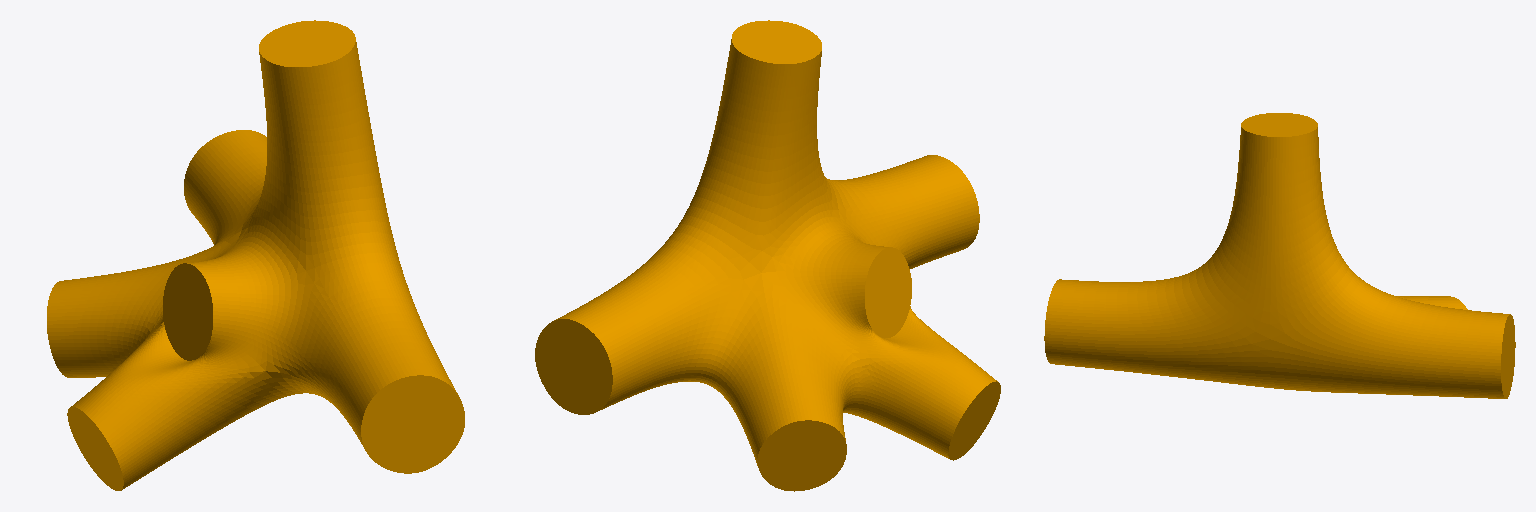
robot.urdf — object:
<robot name="object">
  <link name="object">
    <visual>
      <origin xyz="0 0 0"/>
      <geometry>
        <mesh filename="visual.obj" scale="1 1 1"/>
      </geometry>
    </visual>
    <collision>
      <origin xyz="0 0 0"/>
      <geometry>
        <mesh filename="visual.obj" scale="1 1 1"/>
      </geometry>
    </collision>
    <inertial>
      <mass value="0.05"/>
      <inertia ixx="9.921759350012368e-05" iyy="5.948660170237255e-05" izz="9.576769210875729e-05" ixy="-5.0360107623105515e-06" ixz="-1.2807582808410555e-05" iyz="5.6785226116338245e-06"/>
    </inertial>
  </link>
</robot>

--- Render facts (derived) ---
The picture shows the robot from 3 angles, left to right: view 1: azimuth 30°, elevation 25°; view 2: azimuth 150°, elevation 25°; view 3: azimuth 270°, elevation 25°; orthographic projection.
Robot: object — 1 links, 0 joints (none); root link object; default pose: every joint at zero.
Links seen in each view (by area): view 1: object; view 2: object; view 3: object.
Link boxes in pixels (x1=…): object: x1=47, y1=20, x2=464, y2=490; object: x1=535, y1=20, x2=1000, y2=491; object: x1=1044, y1=113, x2=1515, y2=398.
Size in the robot's own frame: 0.1234 by 0.1857 by 0.1372 metres.
1 mesh visuals loaded from 1 distinct referenced files (1 OBJ).
